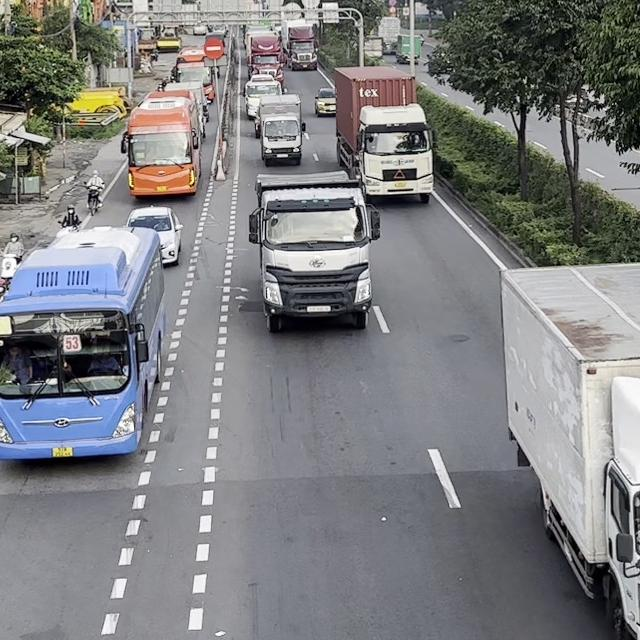bus: (0, 224, 166, 461), (121, 92, 203, 198), (173, 46, 215, 103)
car: (125, 205, 183, 267), (313, 87, 336, 116)
motorcycle: (0, 250, 22, 305), (83, 181, 104, 216)
truck: (499, 260, 639, 639), (247, 169, 381, 333), (333, 65, 433, 205), (254, 93, 308, 166), (244, 28, 285, 87), (280, 18, 319, 70), (244, 74, 286, 122)
